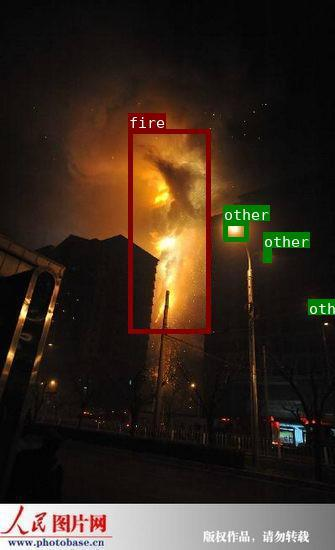fire: (128, 128, 210, 332)
other: (223, 221, 248, 240), (307, 298, 319, 311), (262, 248, 270, 262)
